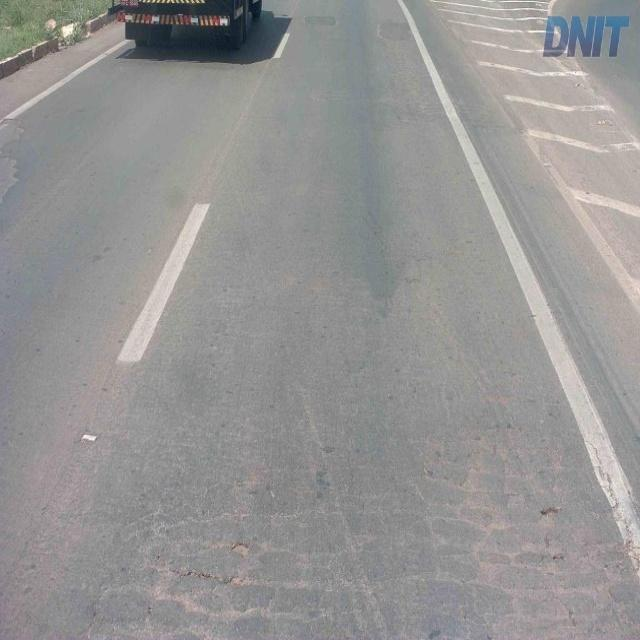pothole: (480, 453, 602, 633), (139, 520, 273, 640)
